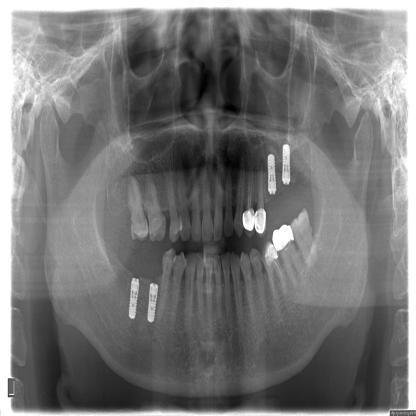ITI: (123, 270, 143, 326), (144, 281, 161, 327), (278, 140, 294, 186), (264, 150, 278, 197)
